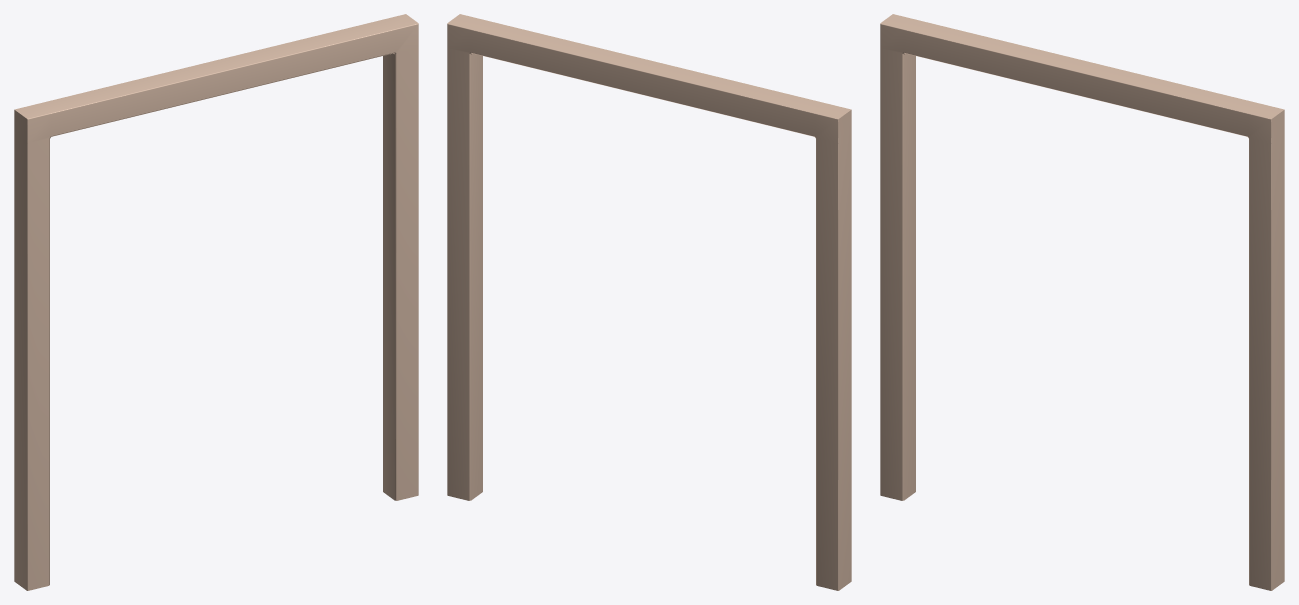
File: EN_W_BunkerFrame.fbx
The picture shows the model from 3 angles, left to right: view 1: azimuth 30°, elevation 25°; view 2: azimuth 150°, elevation 25°; view 3: azimuth 330°, elevation 25°; orthographic projection.
Parts seen in each view (by area): view 1: En_W_BunkerFrame_lo; view 2: En_W_BunkerFrame_lo; view 3: En_W_BunkerFrame_lo.
Boxes of the visible parts, x1,y1,x2,y2 form: En_W_BunkerFrame_lo: [14, 14, 418, 590]; En_W_BunkerFrame_lo: [447, 14, 851, 590]; En_W_BunkerFrame_lo: [880, 14, 1284, 590].
Size of the model in its own units: 200 by 230 by 11.91.
